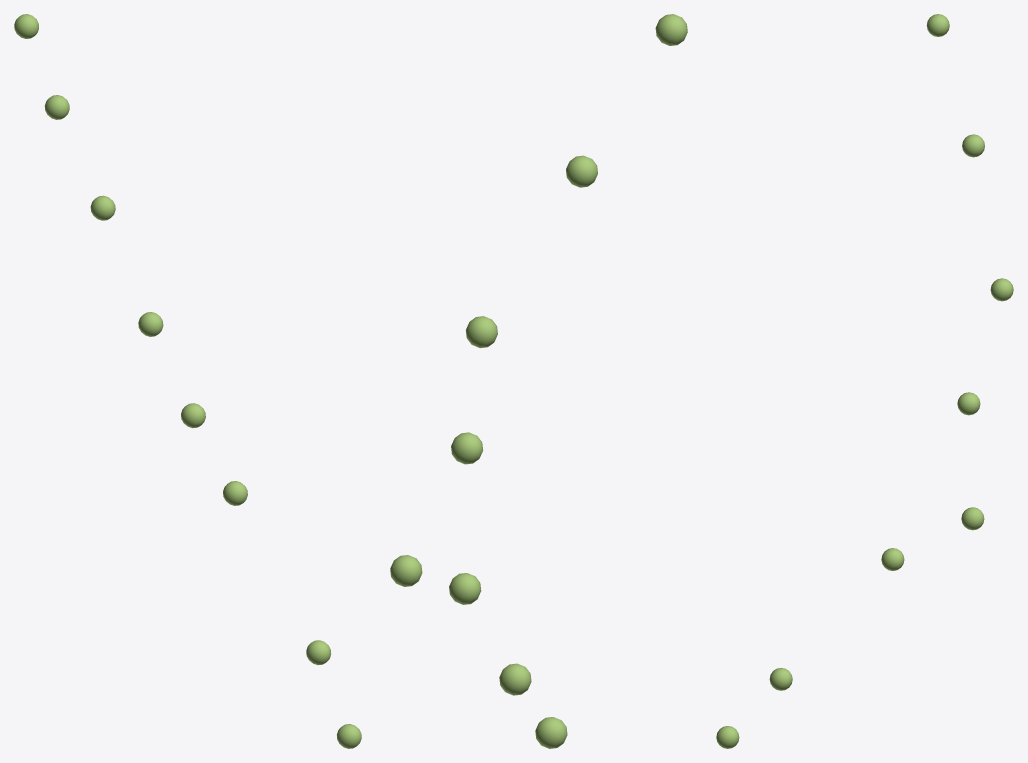
File: medial-external-iliac-nodes-l.glb
The picture shows the model from 3 angles, left to right: view 1: azimuth 30°, elevation 25°; view 2: azimuth 150°, elevation 25°; view 3: azimuth 270°, elevation 25°; orthographic projection. The views are drawn at different scales.
Visible parts, largest first — view 1: Medial external iliac nodes.l; view 2: Medial external iliac nodes.l; view 3: Medial external iliac nodes.l.
Boxes of the visible parts, bbox=[...] form: Medial external iliac nodes.l: bbox=[14, 14, 361, 748]; Medial external iliac nodes.l: bbox=[390, 14, 687, 748]; Medial external iliac nodes.l: bbox=[716, 14, 1013, 748].
Bounding box in the file's own units: 0.0272 × 0.0794 × 0.0335.
